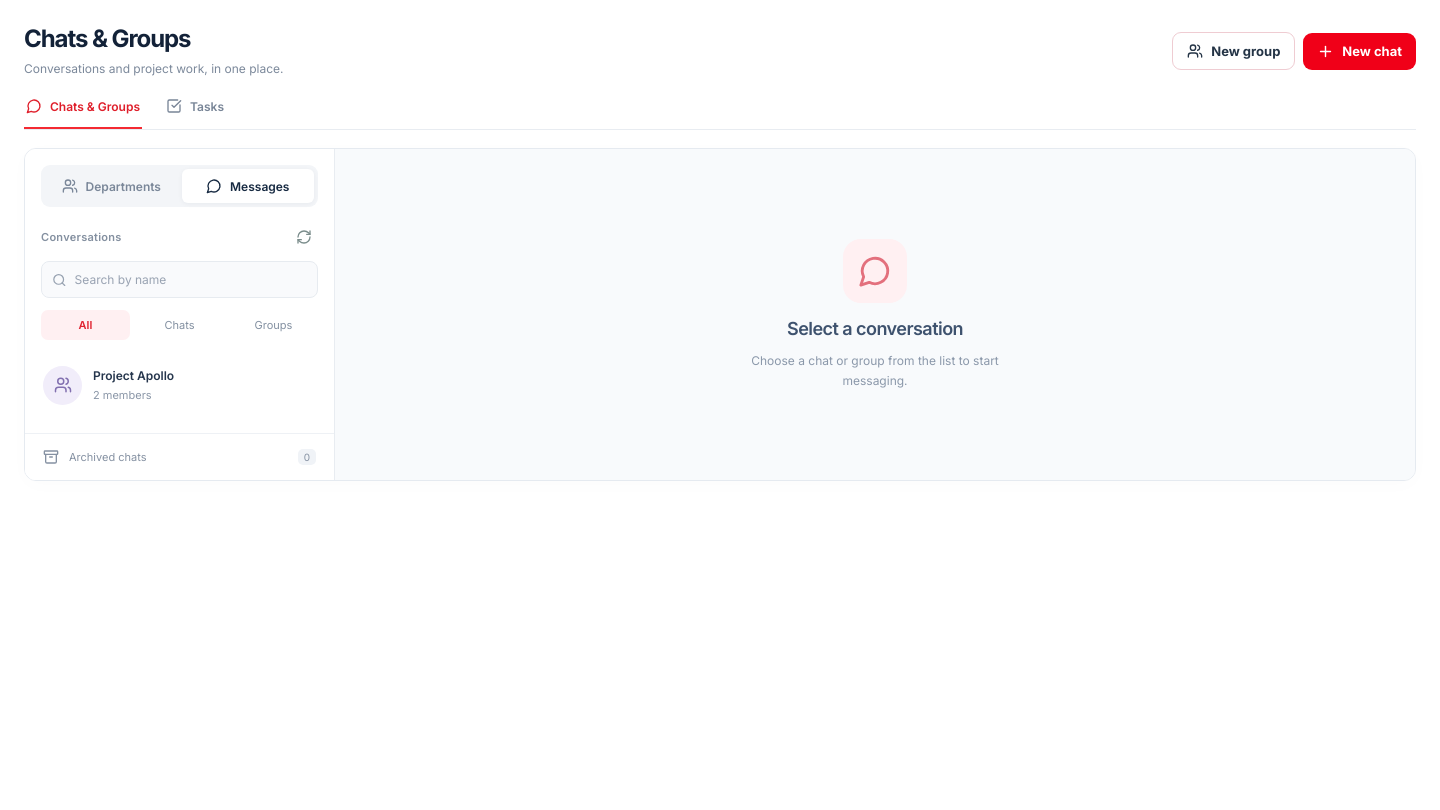
it: Department chat navigation and Senior project groups › confirms and deletes a project group when the server permits it
Click the button "Project Apollo 2 members" at (62, 385), box [33, 350, 326, 420]
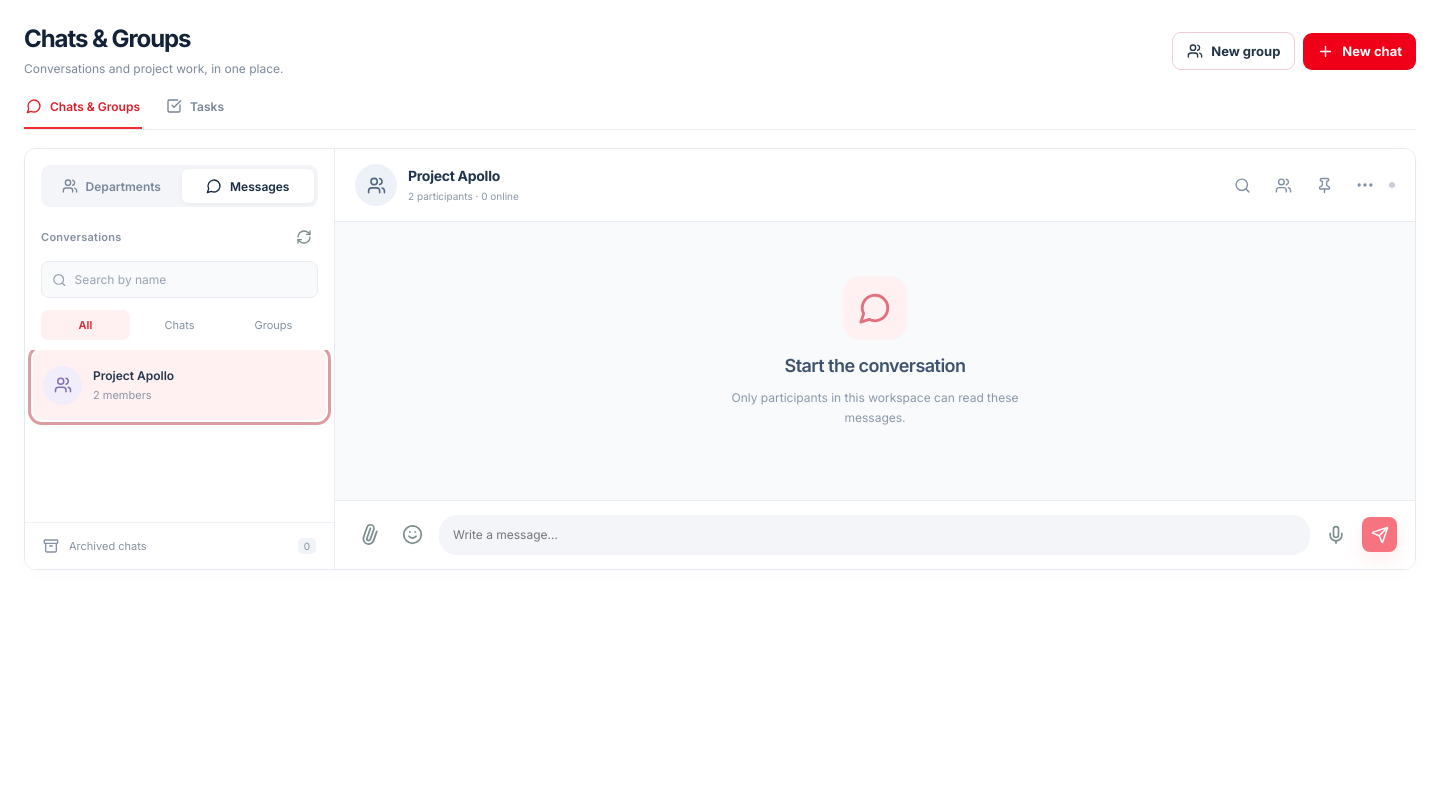
Click the button named "Conversation options" at (1365, 185), box [1348, 168, 1382, 202]
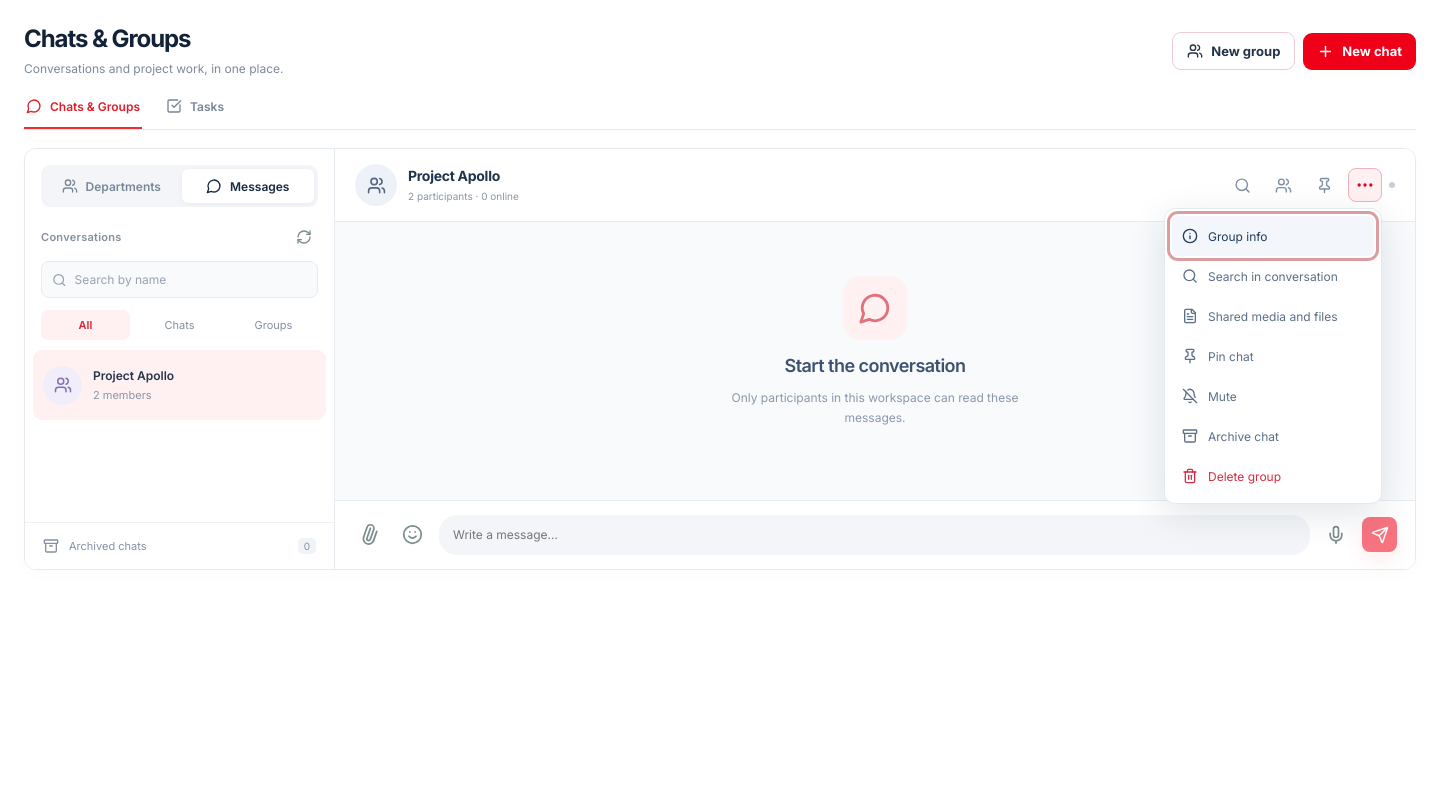
Click the button "Delete group" at (1273, 476), box [1172, 456, 1374, 496]
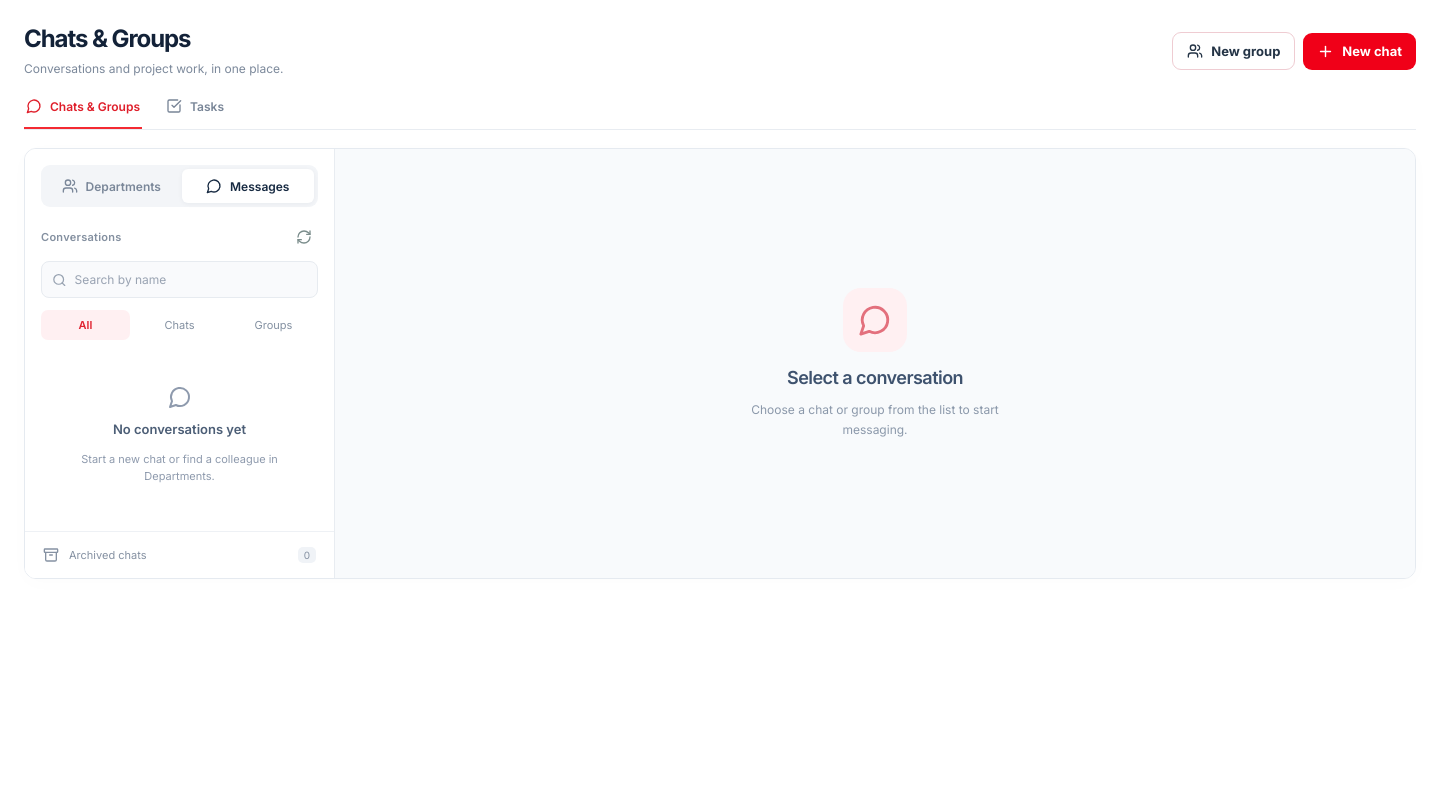
Now the button "Project Apollo" is gone
